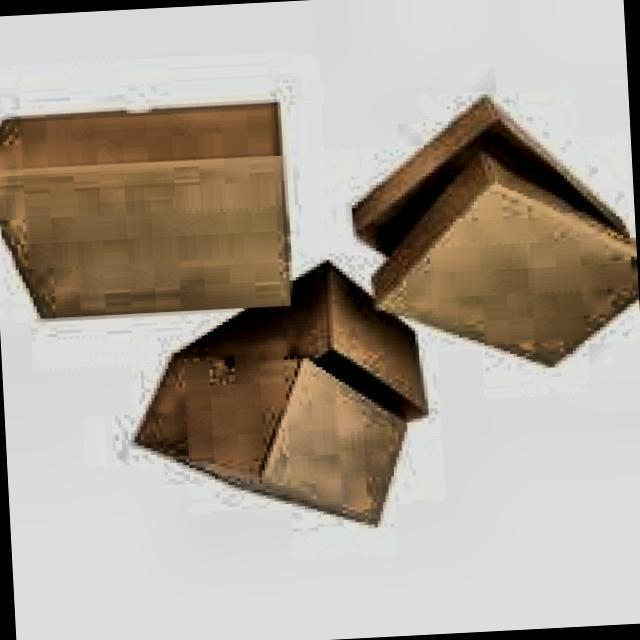cardboard: (125, 258, 438, 543), (0, 102, 297, 327), (364, 144, 640, 380), (346, 90, 634, 262)
